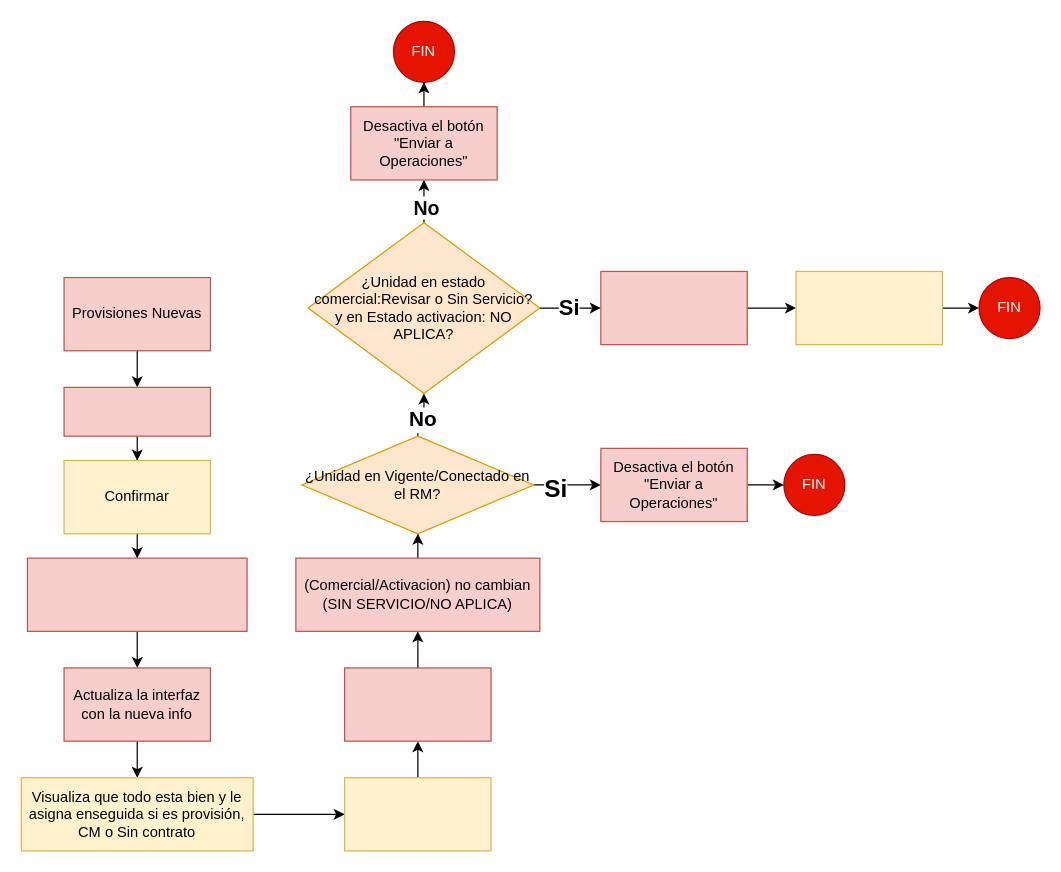
This 1061x872 diagram has some shape labels left out. Here are the shapes that lost their labels. From the top down, the box of each, then its label:
(600, 270, 747, 345): Activa el botón "Enviar a Operaciones"
(795, 270, 942, 345): Enviar a operaciones para activar
(63, 386, 210, 436): Muestra las provisiones nuevas
(26, 557, 247, 631): Auto completa el Plan y Meses.
(343, 667, 491, 741): Envia la info al RM, Plan, Meses, Contrato/Facturacion
(343, 777, 491, 851): Guarda informacion
